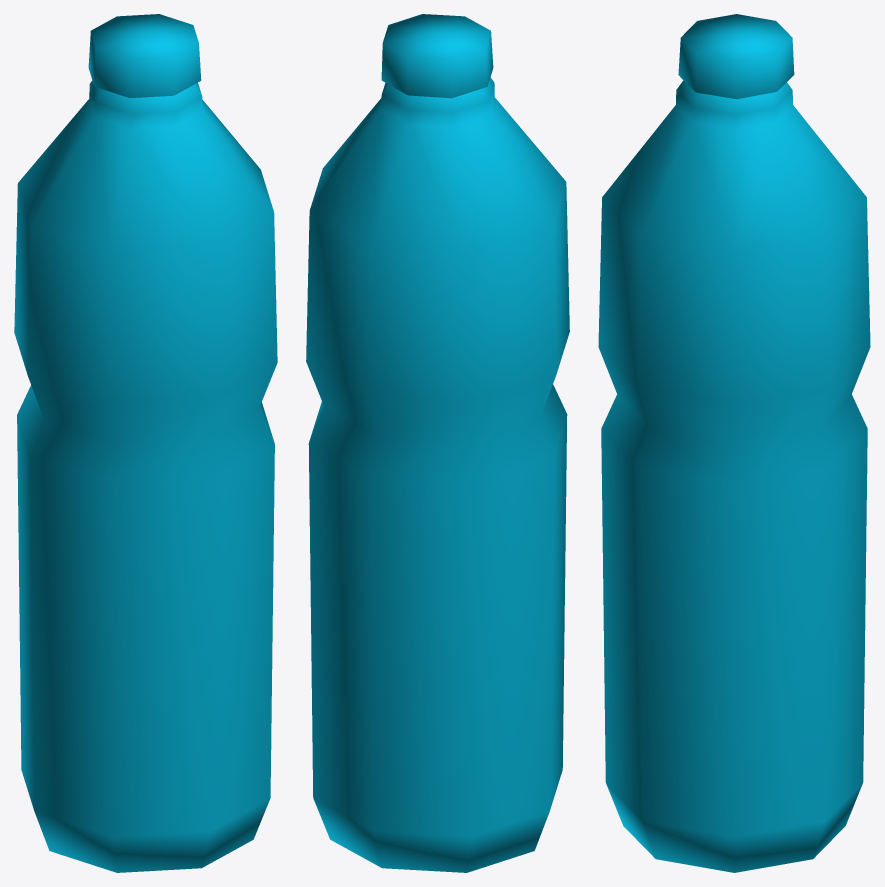
File: Bottle_Water_01_Lod1.fbx
3 views of the same model, side by side, from view 1: azimuth 30°, elevation 25°; view 2: azimuth 150°, elevation 25°; view 3: azimuth 270°, elevation 25° (orthographic).
Visible parts, largest first — view 1: Bottle_Water_01_Lod1; view 2: Bottle_Water_01_Lod1; view 3: Bottle_Water_01_Lod1.
Part boxes in pixels (box(x1,y1,x2,y2)): Bottle_Water_01_Lod1: box(14, 14, 277, 872); Bottle_Water_01_Lod1: box(306, 14, 569, 872); Bottle_Water_01_Lod1: box(598, 14, 870, 872).
Size of the model in its own units: 8.97 by 28.85 by 8.97.
